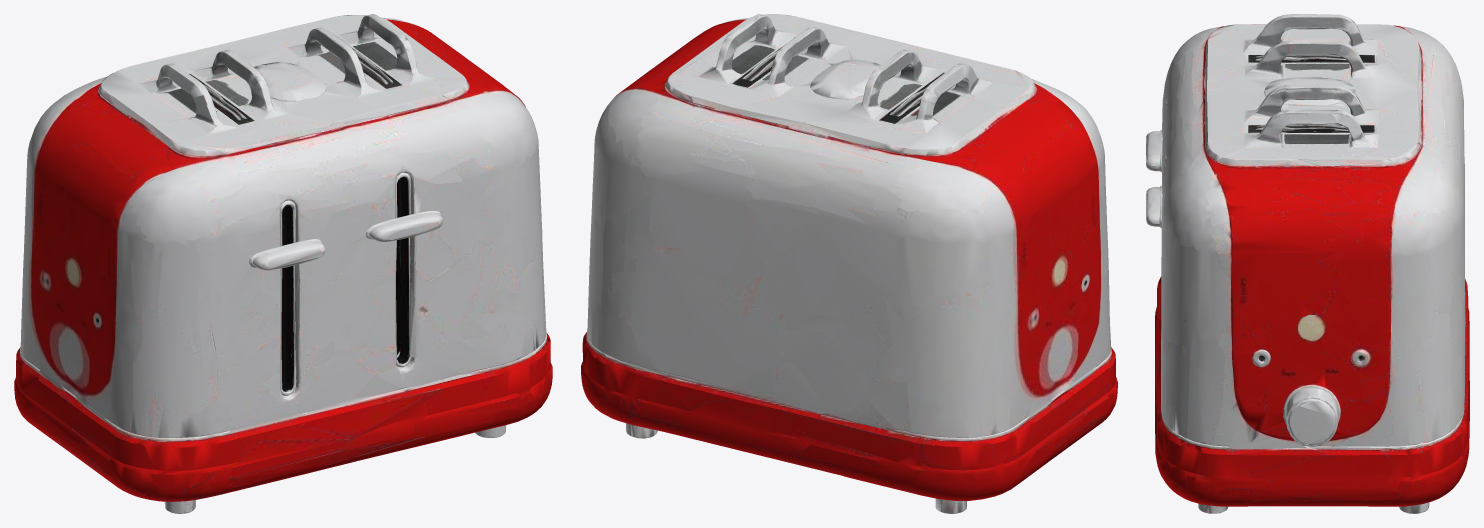
Rendered from toaster.glb.
3 views of the same model, side by side, from view 1: azimuth 30°, elevation 25°; view 2: azimuth 150°, elevation 25°; view 3: azimuth 270°, elevation 25° (orthographic). The views are drawn at different scales.
Bounding box in the file's own units: 1.9 × 1.53 × 1.2.
1 material, 1 textured.
